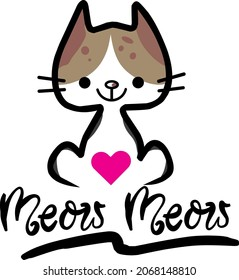cat: (46, 1, 182, 190)
